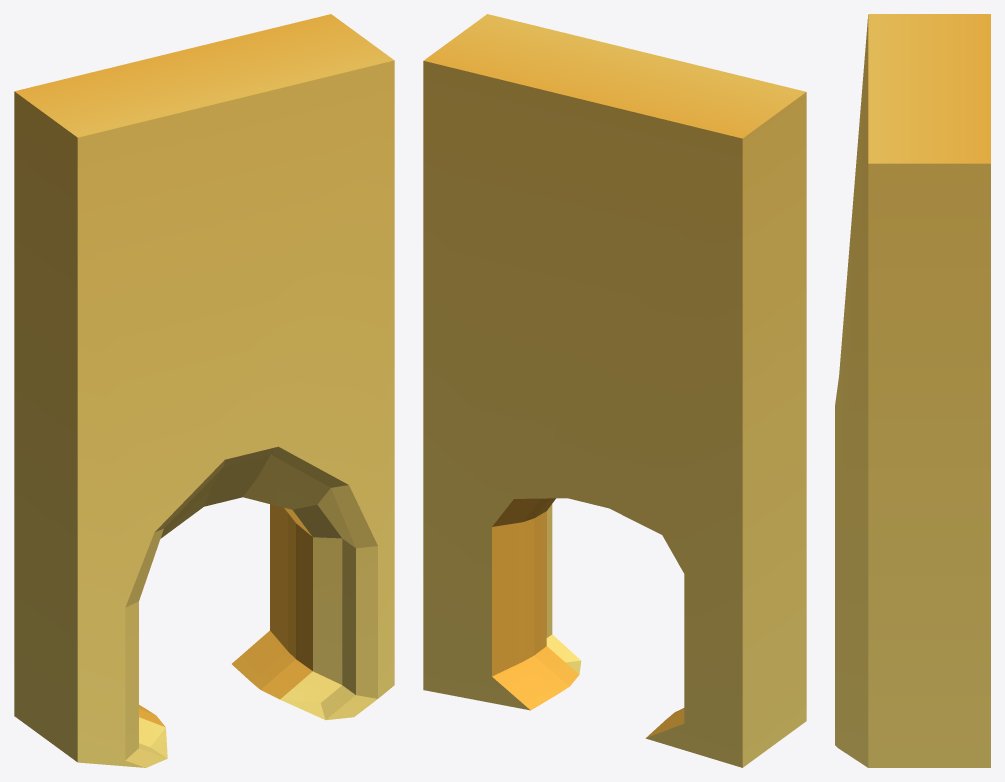
File: muro_porta_stanza_piccola 1.fbx
3 renders of one model, left to right at view 1: azimuth 30°, elevation 25°; view 2: azimuth 150°, elevation 25°; view 3: azimuth 270°, elevation 25°, orthographic. The views are drawn at different scales.
Parts seen in each view (by area): view 1: muro_porta_stanza_piccola; view 2: muro_porta_stanza_piccola; view 3: muro_porta_stanza_piccola.
Part boxes in pixels (<box>): muro_porta_stanza_piccola: <box>14,14,394,767</box>; muro_porta_stanza_piccola: <box>423,14,806,767</box>; muro_porta_stanza_piccola: <box>835,14,990,767</box>.
Bounding box in the file's own units: 2408 × 4588 × 1061.
Materials: 1 (1 with a texture image).
